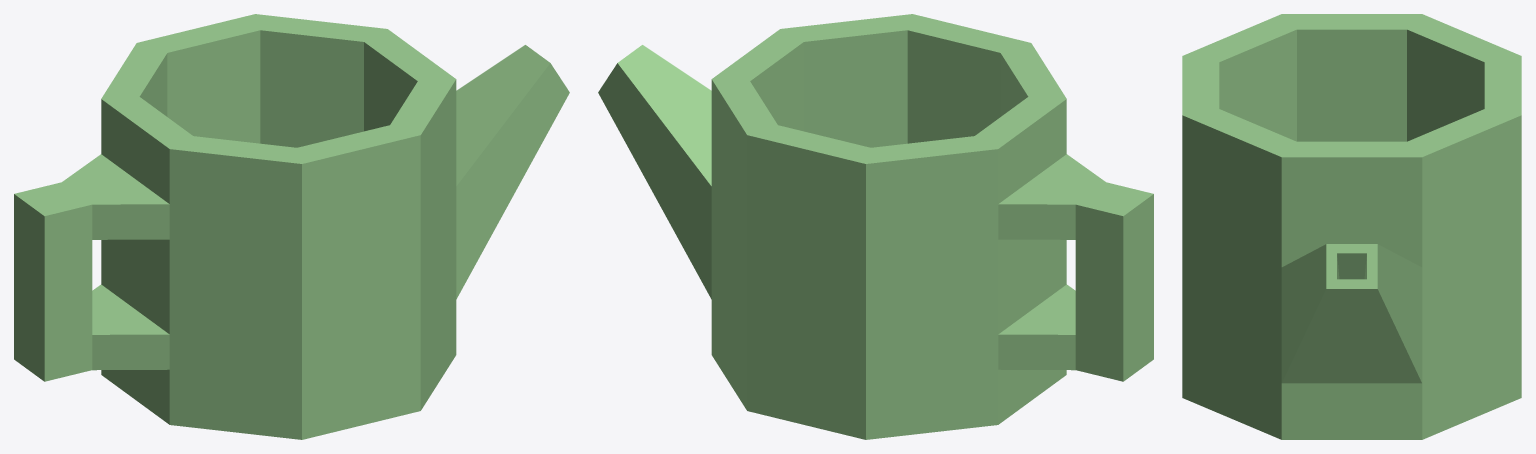
Rendered from wateringCan.gltf.
3 views of the same model, side by side, from view 1: azimuth 30°, elevation 25°; view 2: azimuth 150°, elevation 25°; view 3: azimuth 270°, elevation 25° (orthographic). The views are drawn at different scales.
Visible parts, largest first — view 1: wateringcan; view 2: wateringcan; view 3: wateringcan.
Part boxes in pixels (x1,y1,x2,y2): wateringcan: (14,14,569,439); wateringcan: (598,14,1153,439); wateringcan: (1182,14,1521,439).
Size of the model in its own units: 4.57 by 2.28 by 2.48.
Materials: 1 (1 with a texture image).
